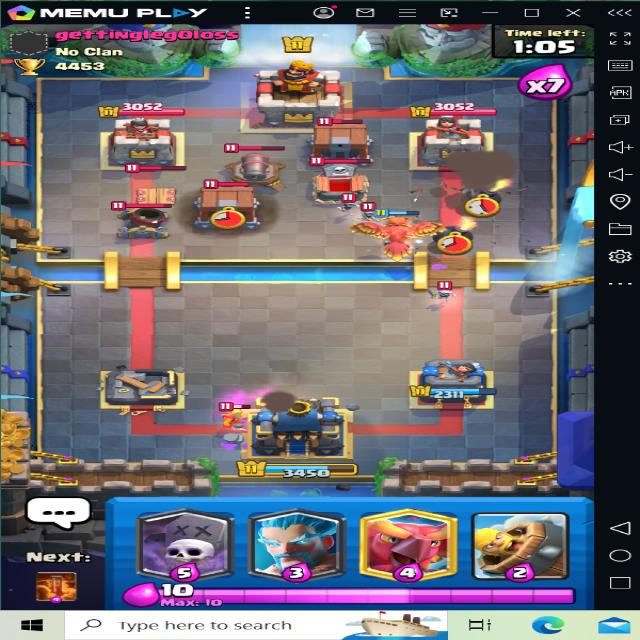cannon: (216, 139, 298, 194)
goblin: (219, 395, 259, 425)
goblin-cage: (181, 178, 268, 231), (300, 113, 377, 162)
mortar: (106, 195, 174, 243)
skeleton: (432, 280, 461, 298), (354, 205, 383, 222), (341, 194, 366, 212)
tesla-closed: (123, 156, 187, 208)
tombstone: (308, 153, 376, 200)
